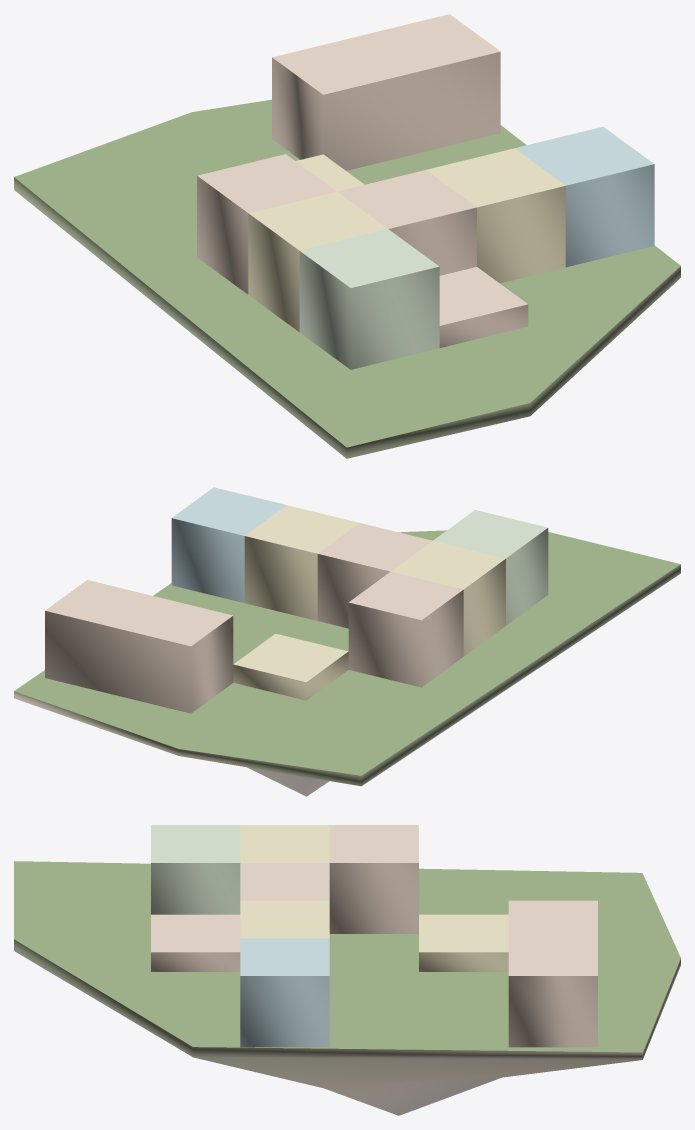
File: SKY-068.lod2.glb
3 views of the same model, one above another, from view 1: azimuth 30°, elevation 25°; view 2: azimuth 150°, elevation 25°; view 3: azimuth 270°, elevation 25° (orthographic). The views are drawn at different scales.
Visible parts, largest first — view 1: warren_hull, deck, rock; view 2: warren_hull, deck, rock; view 3: warren_hull, deck, rock.
Part boxes in pixels (x1=…): warren_hull: x1=197, y1=14, x2=654, y2=369; deck: x1=14, y1=99, x2=680, y2=447; rock: x1=14, y1=177, x2=680, y2=458; warren_hull: x1=45, y1=487, x2=548, y2=713; deck: x1=14, y1=530, x2=680, y2=775; rock: x1=14, y1=564, x2=680, y2=796; warren_hull: x1=151, y1=825, x2=597, y2=1047; deck: x1=14, y1=861, x2=680, y2=1052; rock: x1=14, y1=939, x2=680, y2=1115.
Size of the model in its own units: 75.99 by 41.95 by 112.
